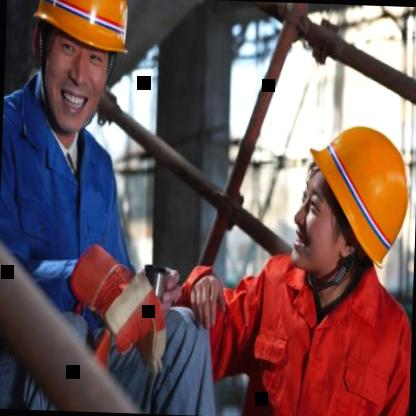helmet: (281, 98, 416, 314), (18, 0, 134, 140)
